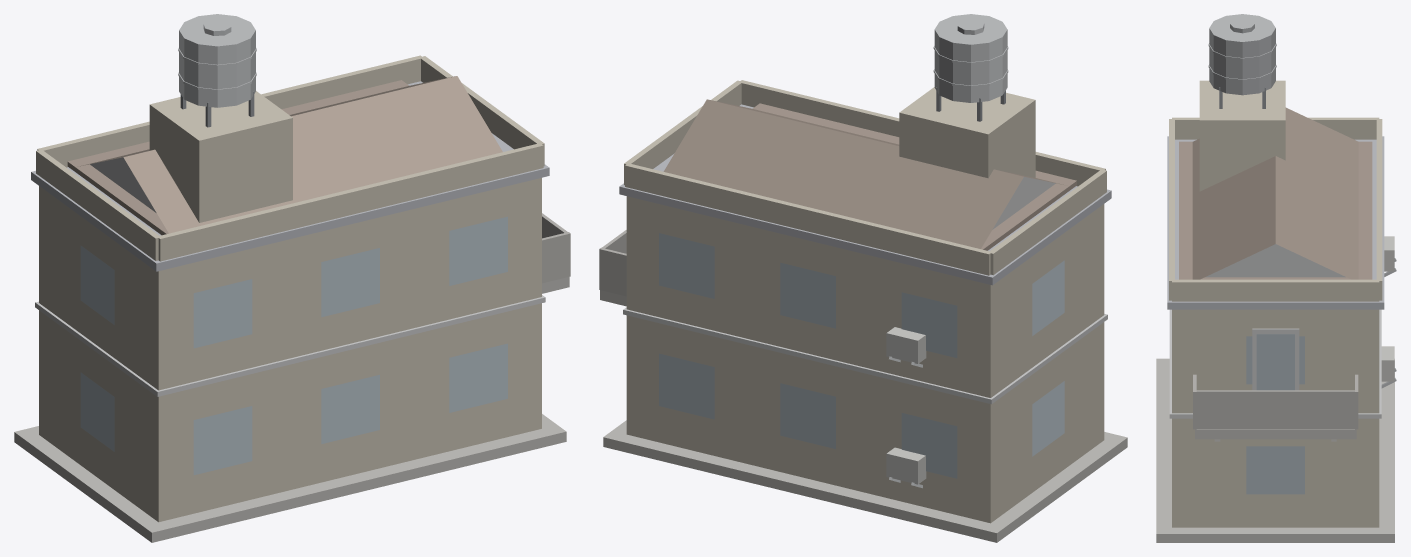
File: 07_residential_low-05.glb
3 renders of one model, left to right at view 1: azimuth 30°, elevation 25°; view 2: azimuth 150°, elevation 25°; view 3: azimuth 270°, elevation 25°, orthographic. The views are drawn at different scales.
Bounding box in the file's own units: 11.25 × 11.07 × 6.14.
